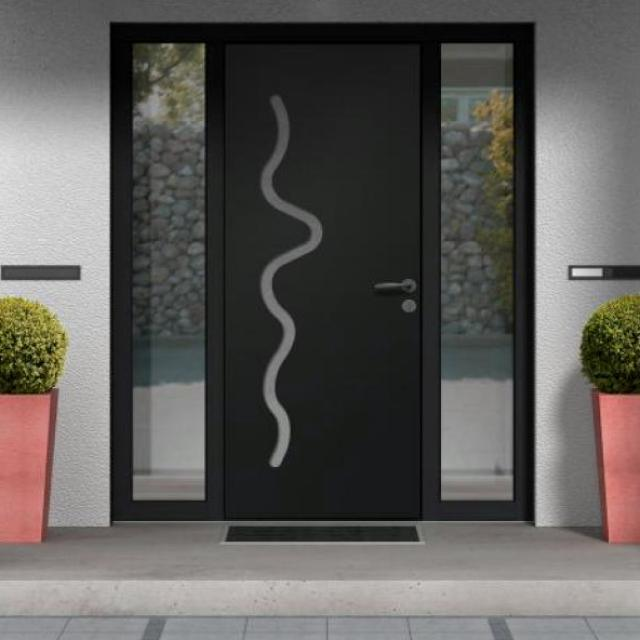Door: (221, 39, 423, 520)
